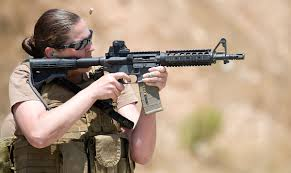Arma Real: (26, 35, 247, 112)
